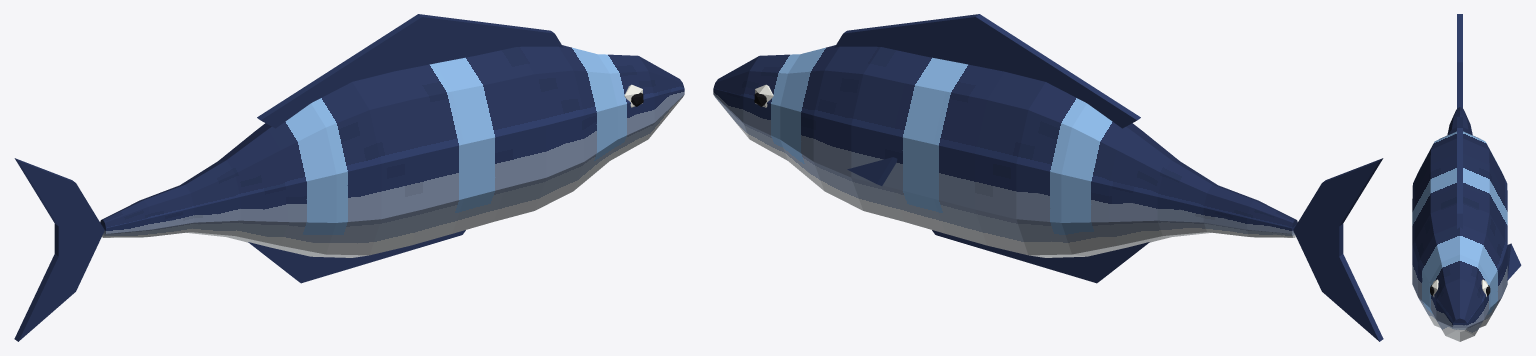
The model's file is striped_marlin.glb.
3 renders of one model, left to right at view 1: azimuth 30°, elevation 25°; view 2: azimuth 150°, elevation 25°; view 3: azimuth 270°, elevation 25°, orthographic. The views are drawn at different scales.
Visible parts, largest first — view 1: fish_striped_marlin; view 2: fish_striped_marlin; view 3: fish_striped_marlin.
Boxes of the visible parts, bbox=[...] form: fish_striped_marlin: bbox=[14, 14, 684, 341]; fish_striped_marlin: bbox=[713, 14, 1383, 341]; fish_striped_marlin: bbox=[1412, 14, 1521, 341].
Size of the model in its own units: 1.15 by 0.3924 by 0.2178.
Materials: 5 (1 with a texture image).
